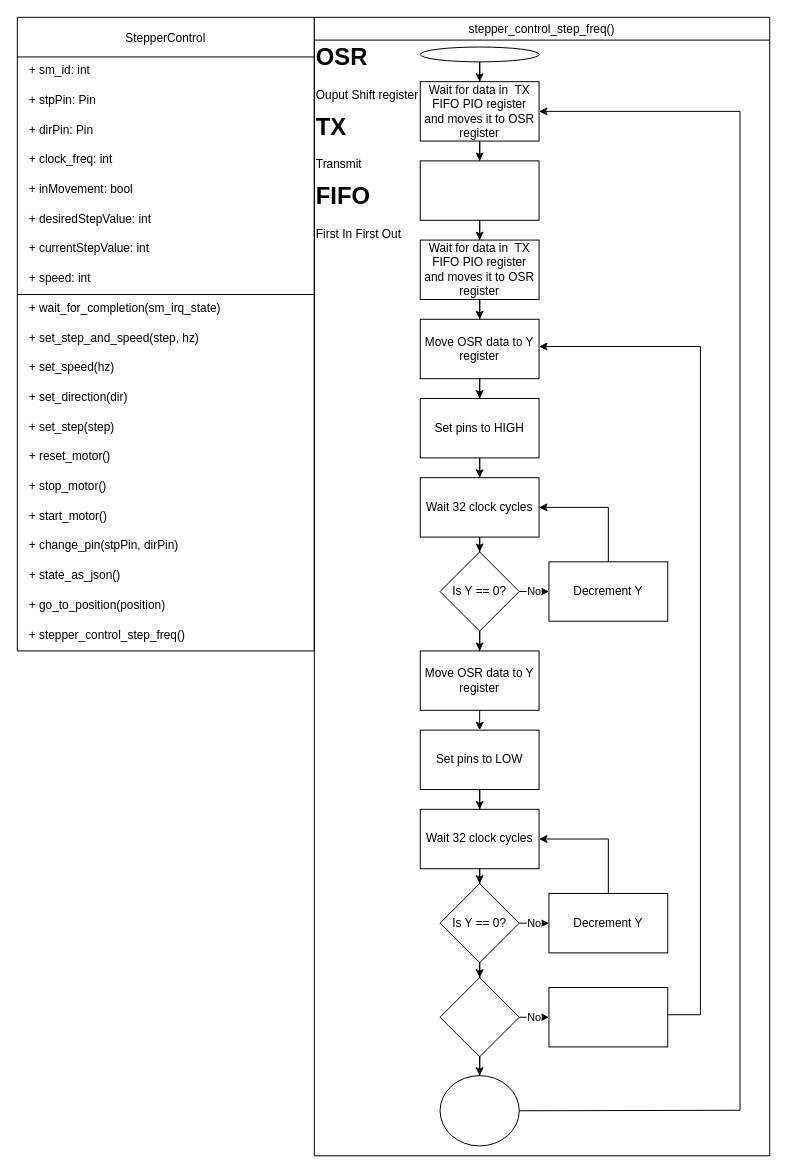
Some shapes in this 787 by 1173 pixel diagram are drawn without their labels. Each missing label, with the centre of its shape:
"Decrement X" belongs at (608,1017).
"Is X == 0?" belongs at (479,1017).
"Move OSR data to X register" belongs at (479,190).
"Start" belongs at (479,54).
"Trigger Interrupt" belongs at (479,1110).
